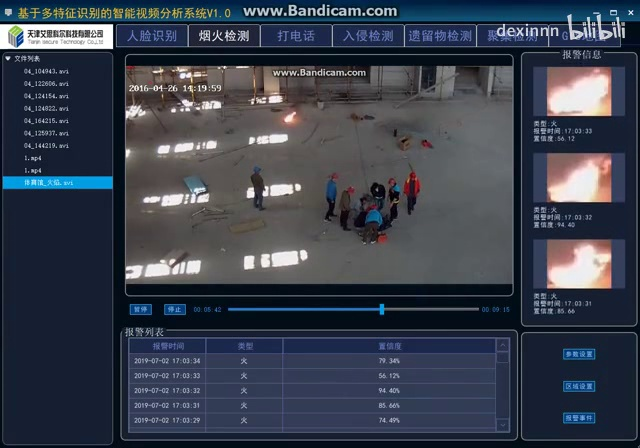fire: (281, 107, 299, 125)
